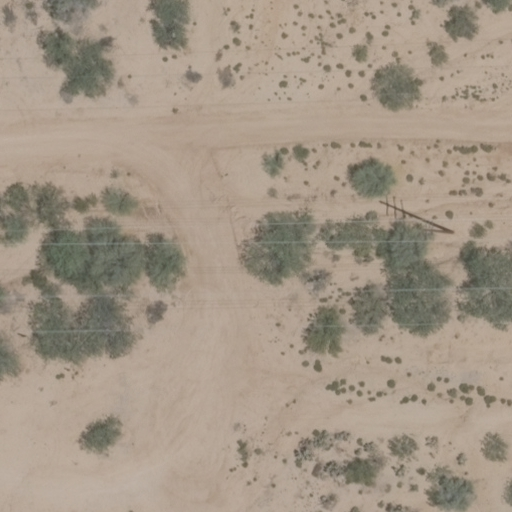DT: (380, 195, 453, 234)
